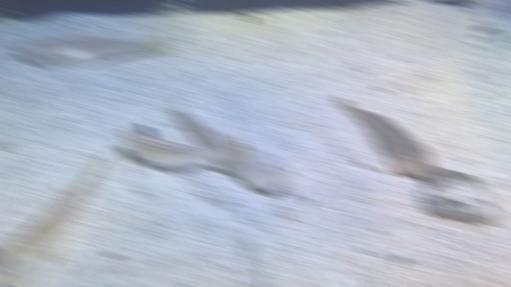Fish: (0, 152, 110, 286), (338, 98, 437, 178), (122, 126, 247, 168), (14, 36, 171, 68), (218, 146, 290, 191), (259, 272, 263, 286)
